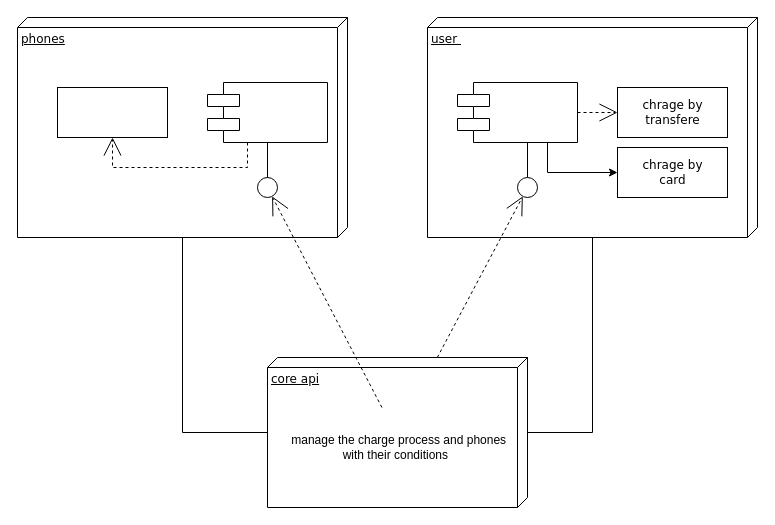
The diagram is 775 pixels wide and 525 high, and some of its shapes have lost their labels. Here are the shapes that lost their labels. From the top down, the centre of each, then its label:
the point at 112,112: phones table
the point at 267,112: Module
